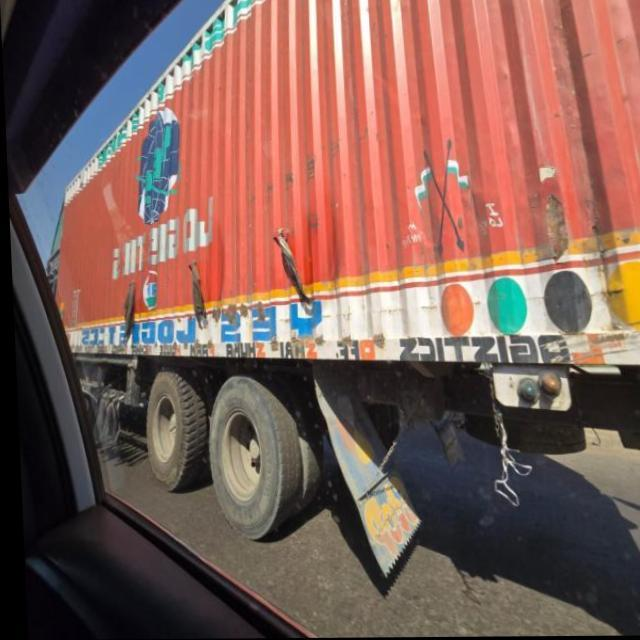covered: (42, 0, 640, 574)
